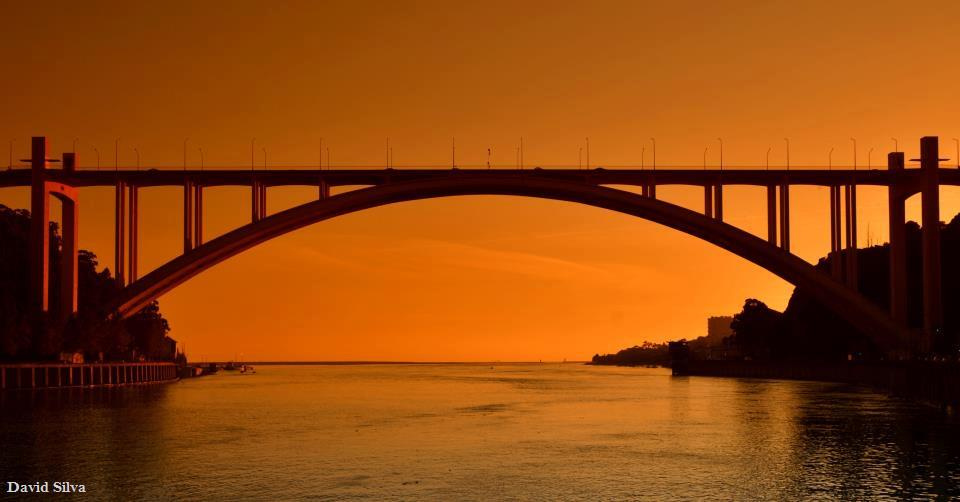arrabida: (0, 136, 959, 361)
